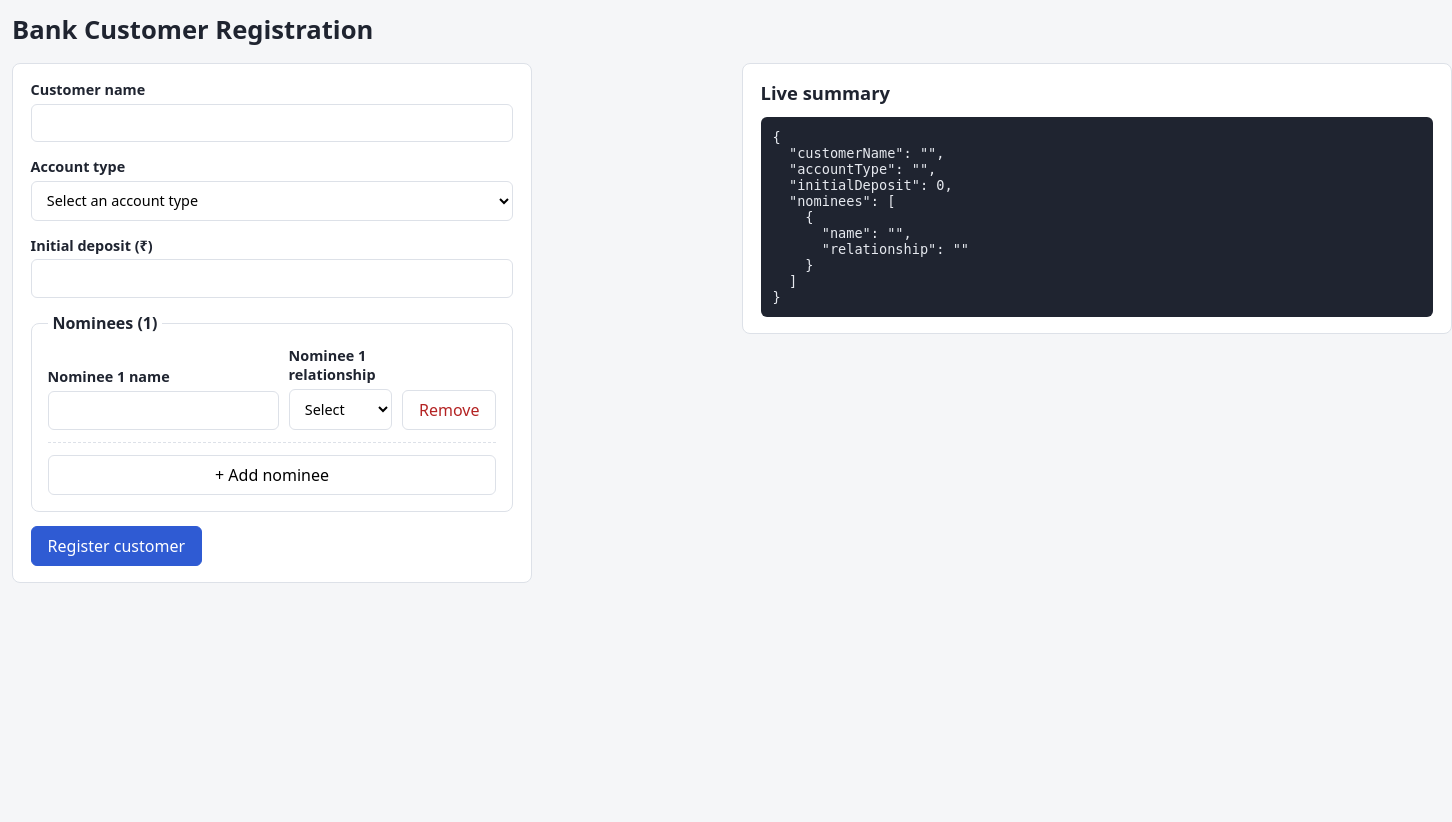
Test case: Dynamic bank account form › removing every nominee is reported (empty case)
What coordinates should you click on to do the following:
click the button with aria-label "Remove nominee 1"
I would click on:
 (449, 410)
Its box is [402,390,496,430].
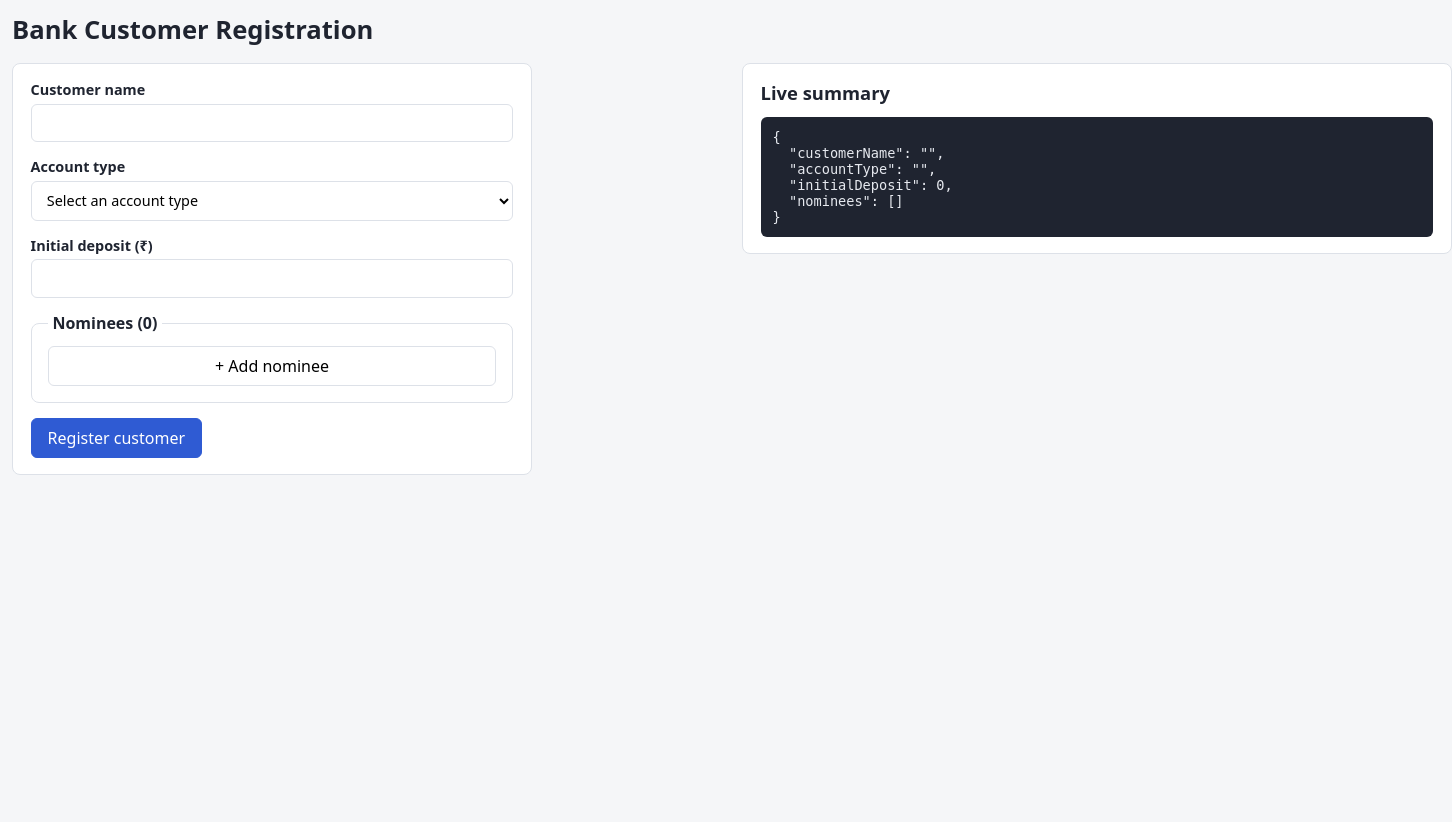
What coordinates should you click on to do the following:
click the button "Register customer"
I would click on:
 (116, 438)
Its box is [31,418,202,458].
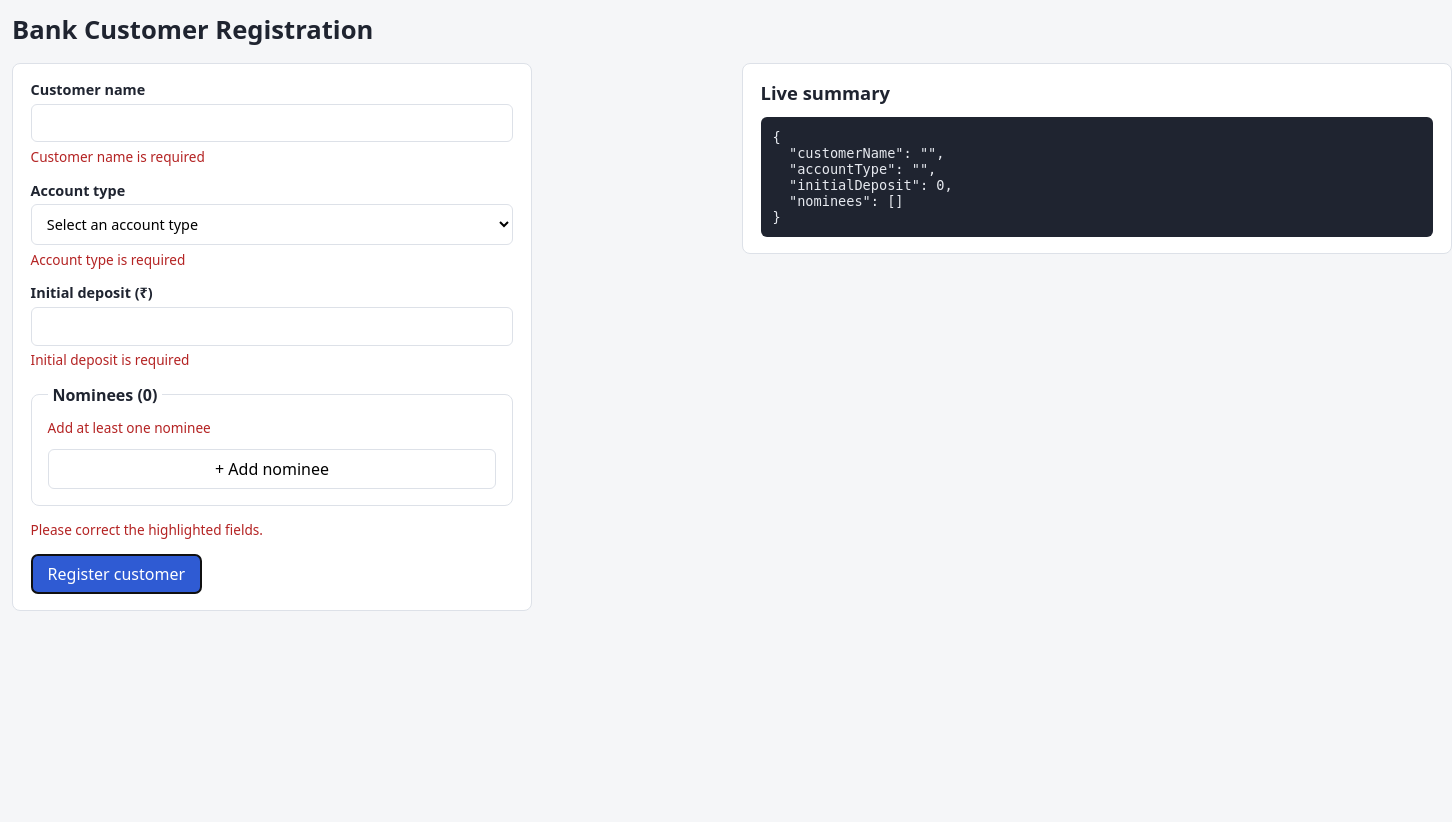
expect the text "Add at least one nominee" is shown: met, box [48,418,211,437]
